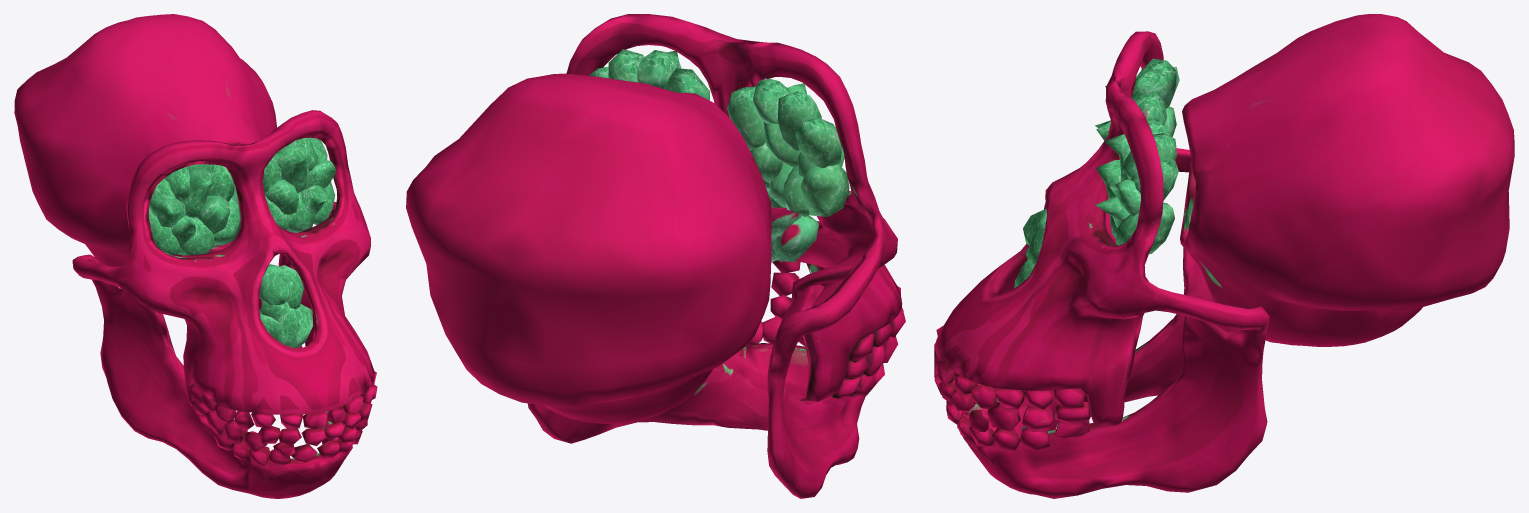
File: Magnet_Skull.glb
3 views of the same model, side by side, from view 1: azimuth 30°, elevation 25°; view 2: azimuth 150°, elevation 25°; view 3: azimuth 270°, elevation 25° (orthographic). The views are drawn at different scales.
Visible parts, largest first — view 1: Mesh_0.001; view 2: Mesh_0.001; view 3: Mesh_0.001.
Part boxes in pixels (x1,y1,x2,y2): Mesh_0.001: (14, 14, 377, 498); Mesh_0.001: (406, 14, 905, 498); Mesh_0.001: (934, 14, 1514, 498).
Bounding box in the file's own units: 1.35 × 1.8 × 2.14.
Materials: 1 (1 with a texture image).
